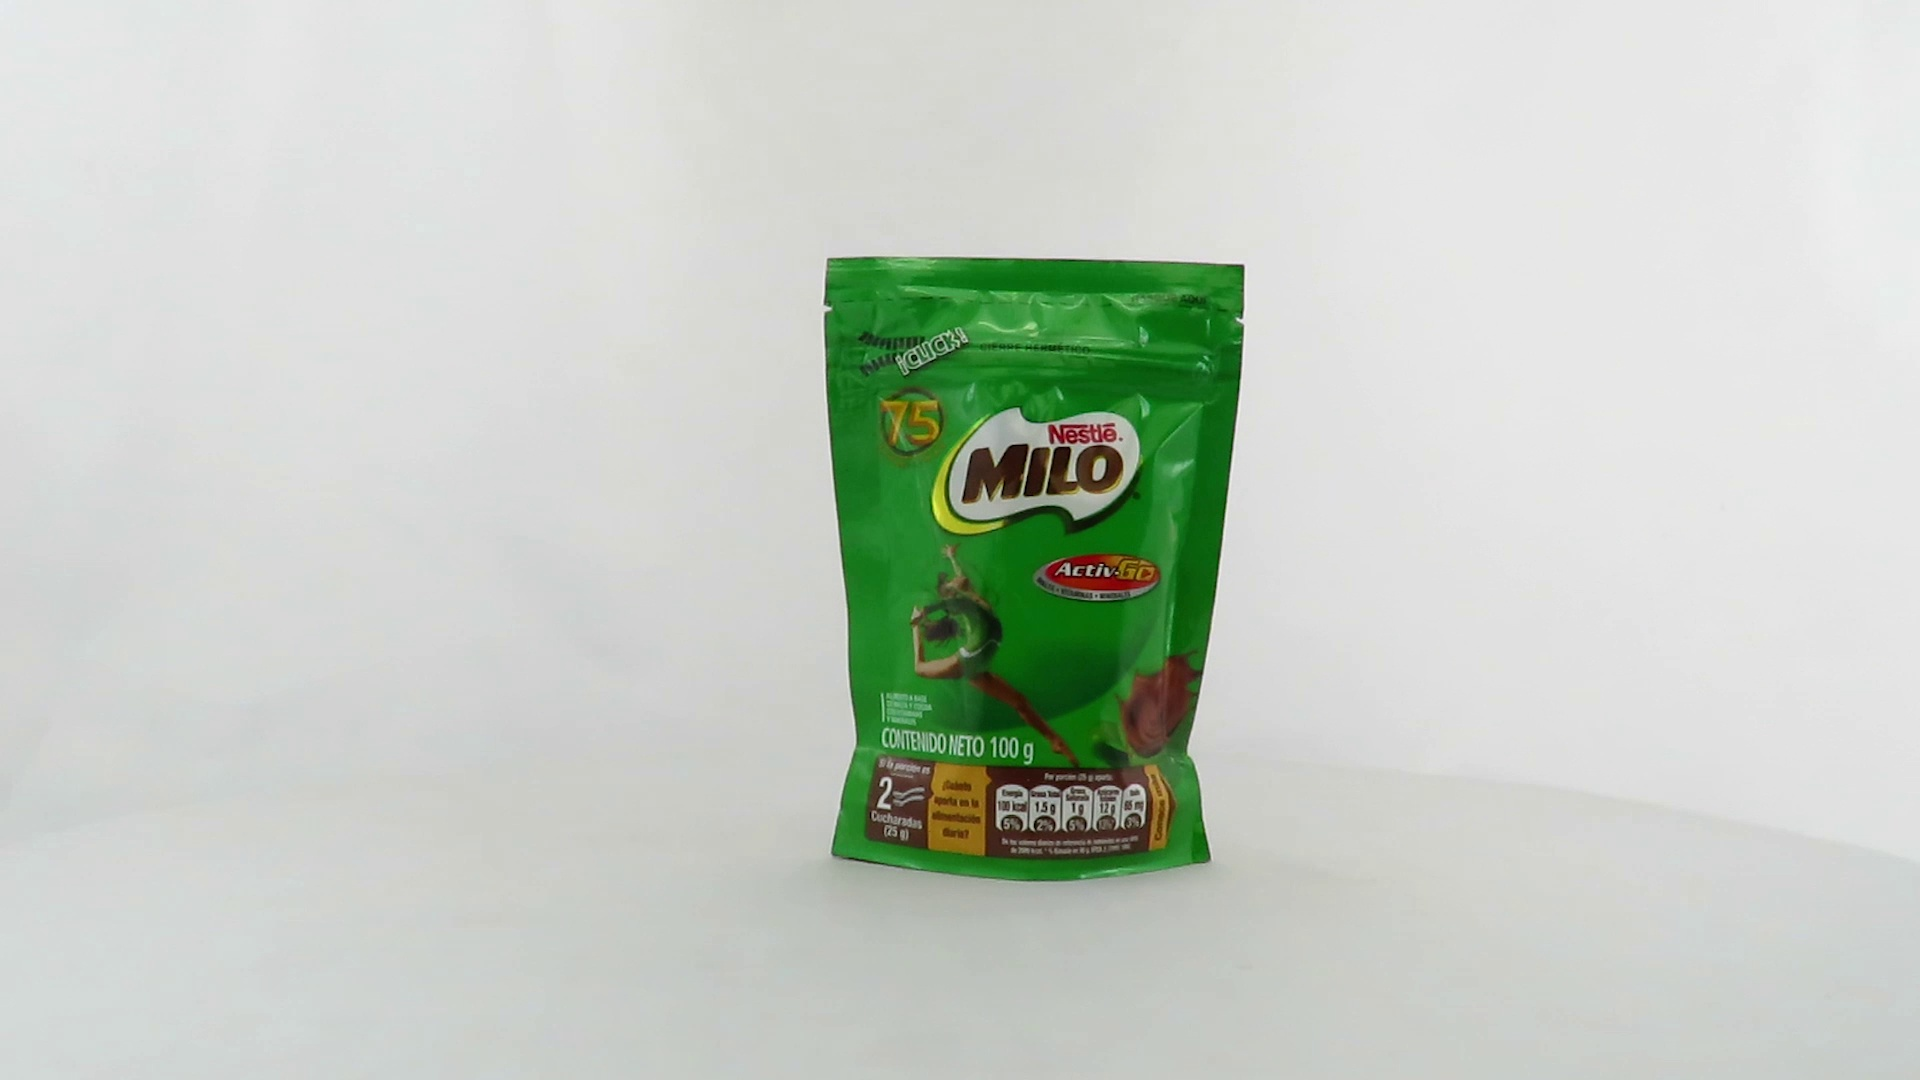COL0170203DYP10000: (818, 251, 1251, 887)
